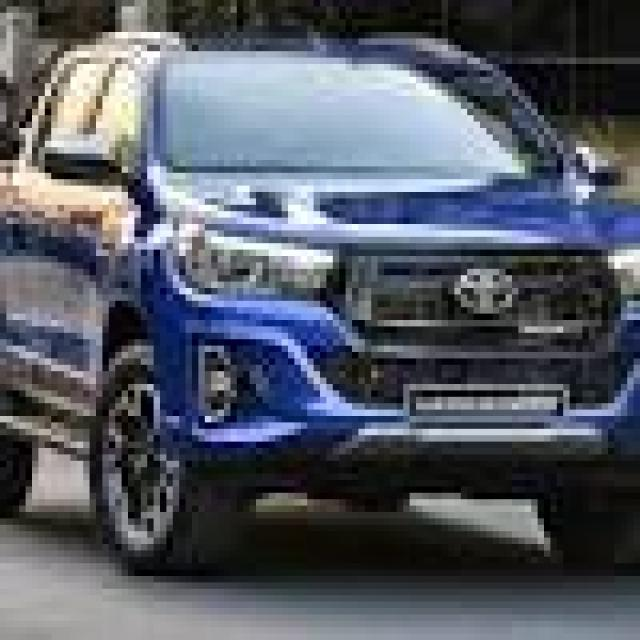Pickup Trucks: (6, 25, 640, 582)
